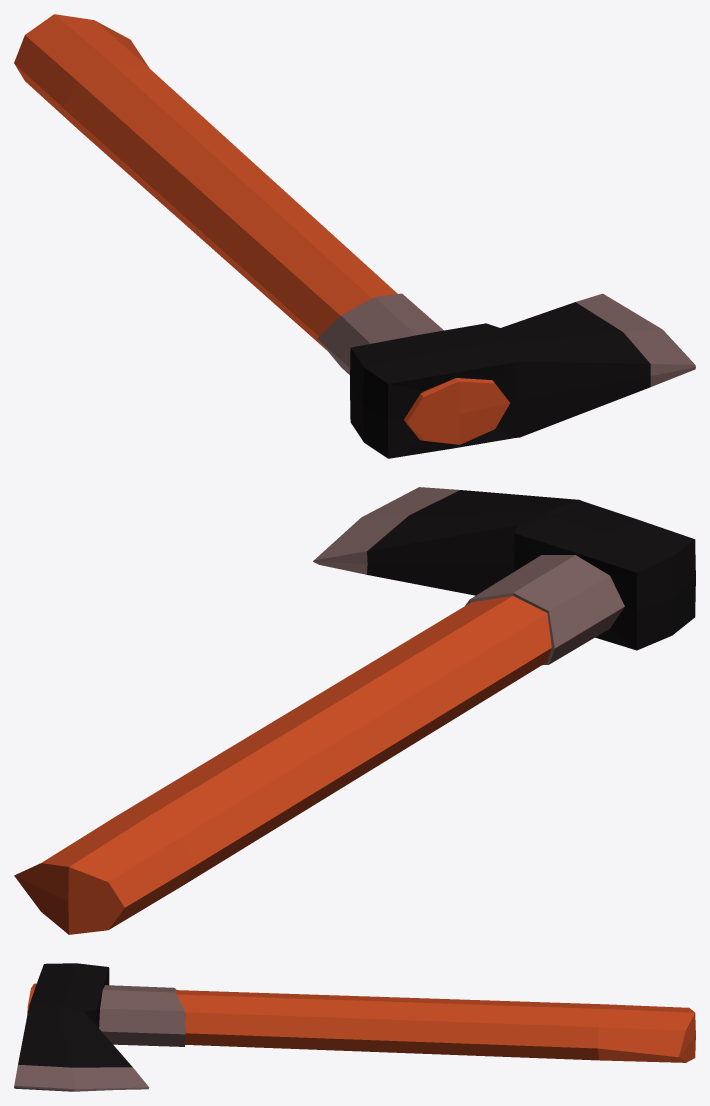
Rendered from axe2.obj.
3 views of the same model, one above another, from view 1: azimuth 30°, elevation 25°; view 2: azimuth 150°, elevation 25°; view 3: azimuth 270°, elevation 25° (orthographic). The views are drawn at different scales.
Visible parts, largest first — view 1: Plane_Plane_wOOD, Plane_Plane_dARK_METAL, Plane_Plane_lIGHT_METAL; view 2: Plane_Plane_wOOD, Plane_Plane_dARK_METAL, Plane_Plane_lIGHT_METAL; view 3: Plane_Plane_wOOD, Plane_Plane_dARK_METAL, Plane_Plane_lIGHT_METAL.
Boxes of the visible parts, x1,y1,x2,y2 form: Plane_Plane_wOOD: (14,14,509,444); Plane_Plane_dARK_METAL: (350,302,650,458); Plane_Plane_lIGHT_METAL: (317,293,695,386); Plane_Plane_wOOD: (14,596,551,934); Plane_Plane_dARK_METAL: (367,490,695,650); Plane_Plane_lIGHT_METAL: (313,487,624,665); Plane_Plane_wOOD: (27,983,695,1062); Plane_Plane_dARK_METAL: (18,963,132,1067); Plane_Plane_lIGHT_METAL: (14,985,185,1091).
Bounding box in the file's own units: 1.57 × 0.3929 × 4.46.
